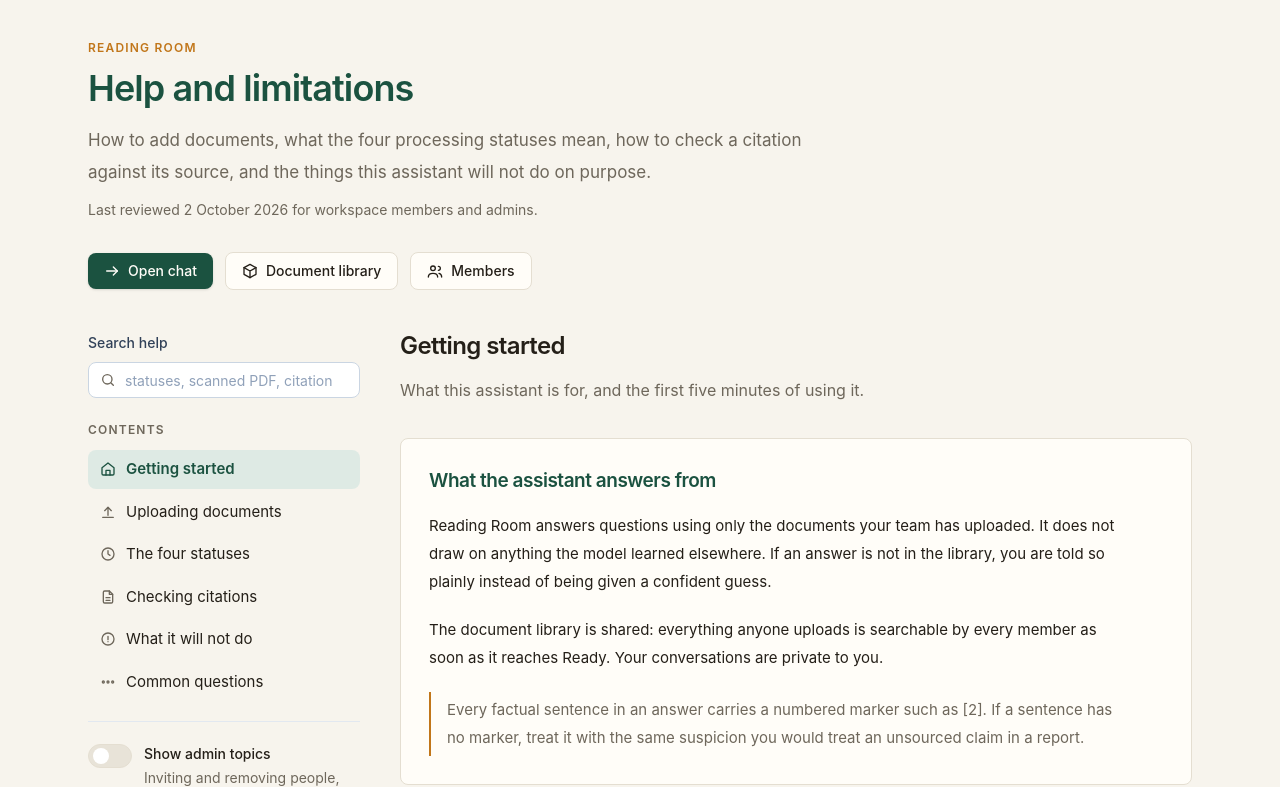
Test: Help screen › states admin rules: admins invite/remove members and delete any document, members delete only their own
Click the switch named "Show admin topics": {"x": 110, "y": 756} [88,744,132,768]
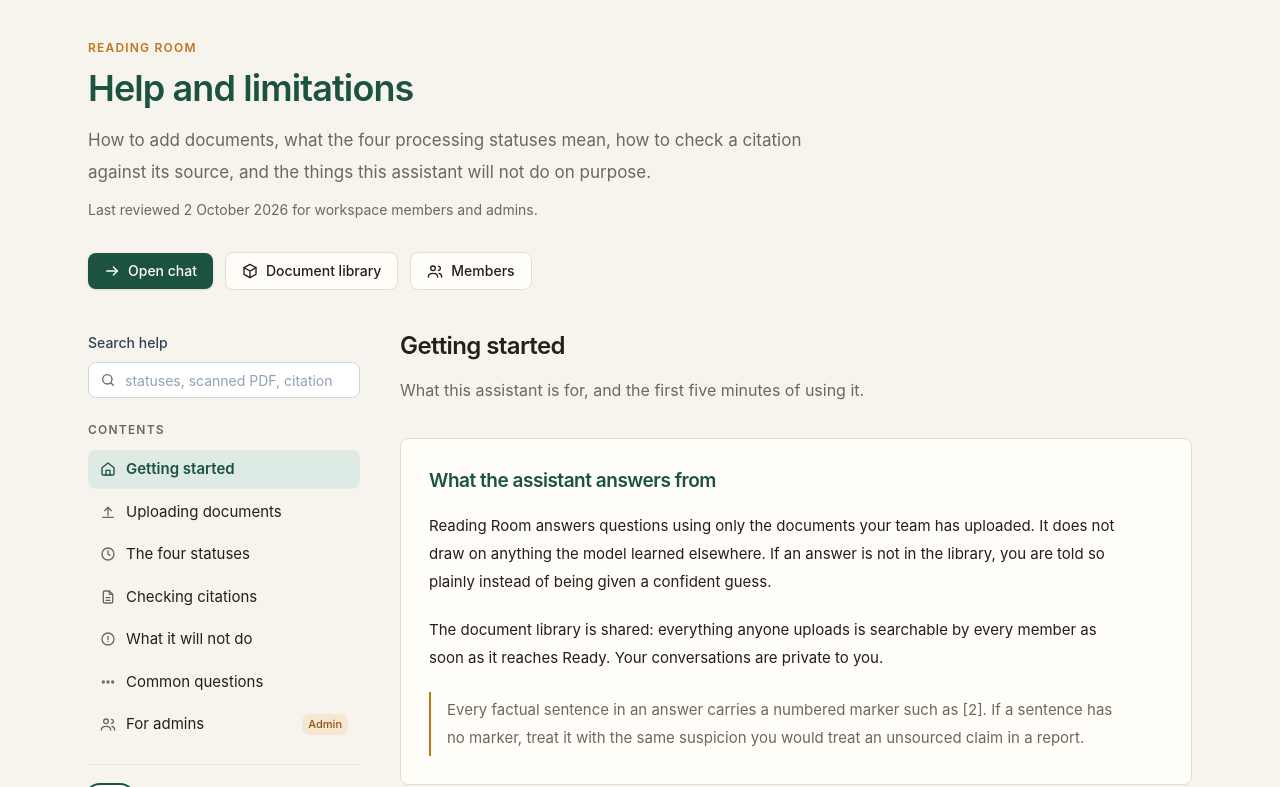
Click the tab "For admins Admin": {"x": 165, "y": 724} [88,705,360,744]
(page scrolled)
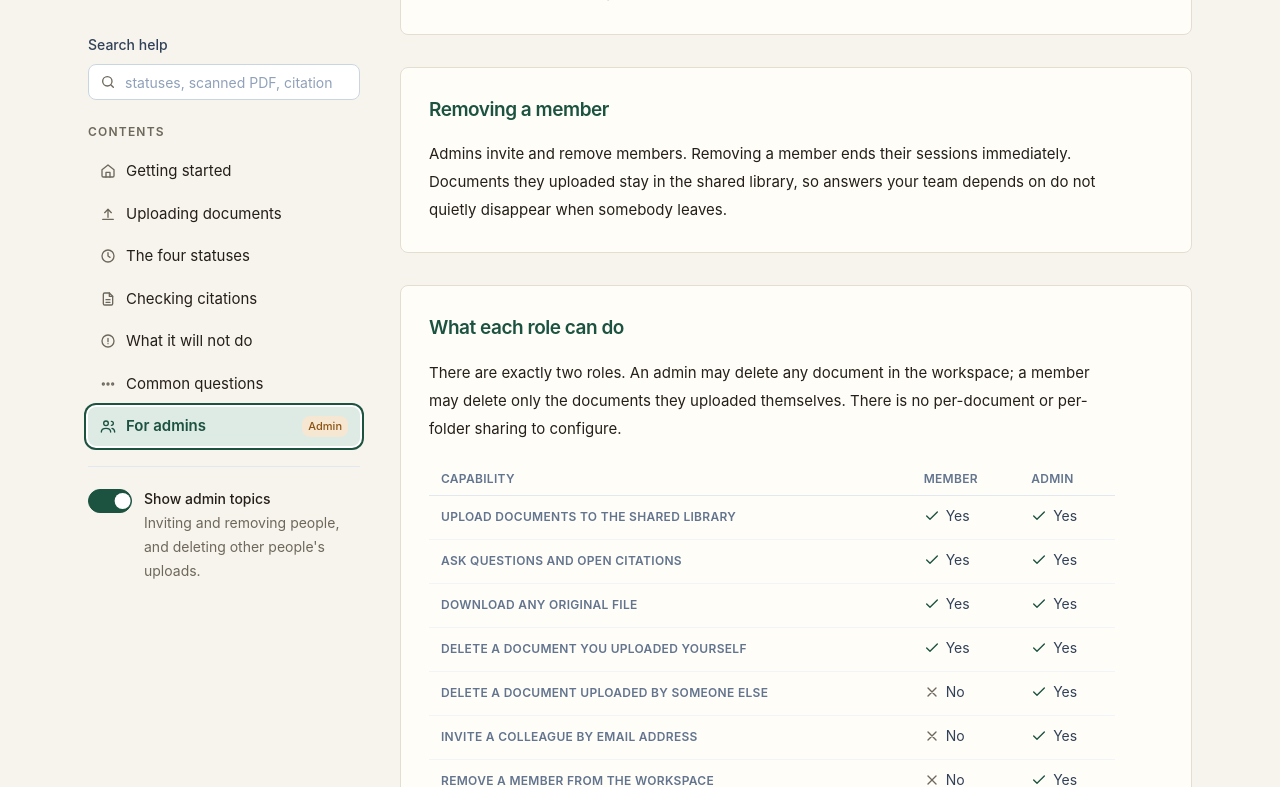
Result: the text "Admins invite and remove members" is shown at [429,144,1096,219]
Result: the text "An admin may delete any document in the workspace; a member may delete only the documents they uploaded themselves" is shown at [429,362,1090,438]
